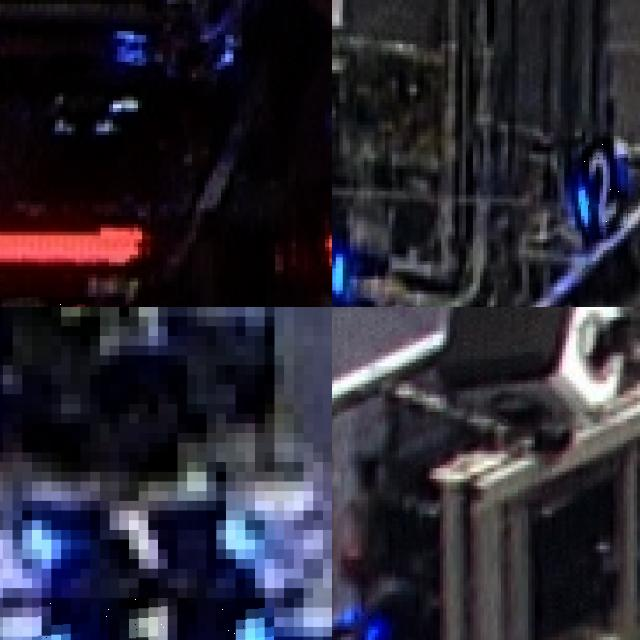B1: (12, 501, 264, 578), (31, 597, 274, 640)
B2: (575, 138, 628, 230)
